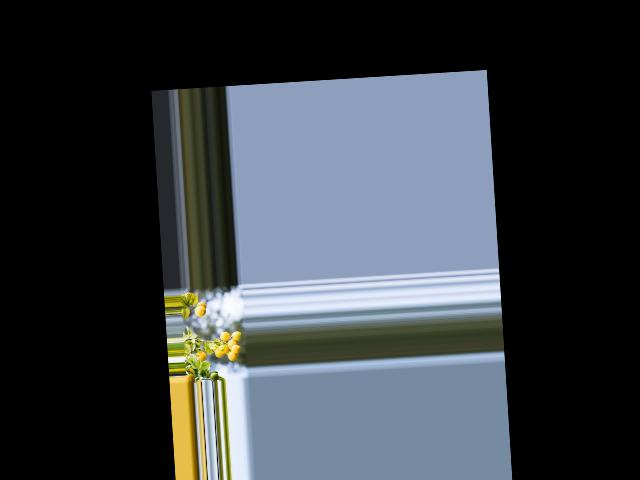lemon: (227, 349, 241, 360)
